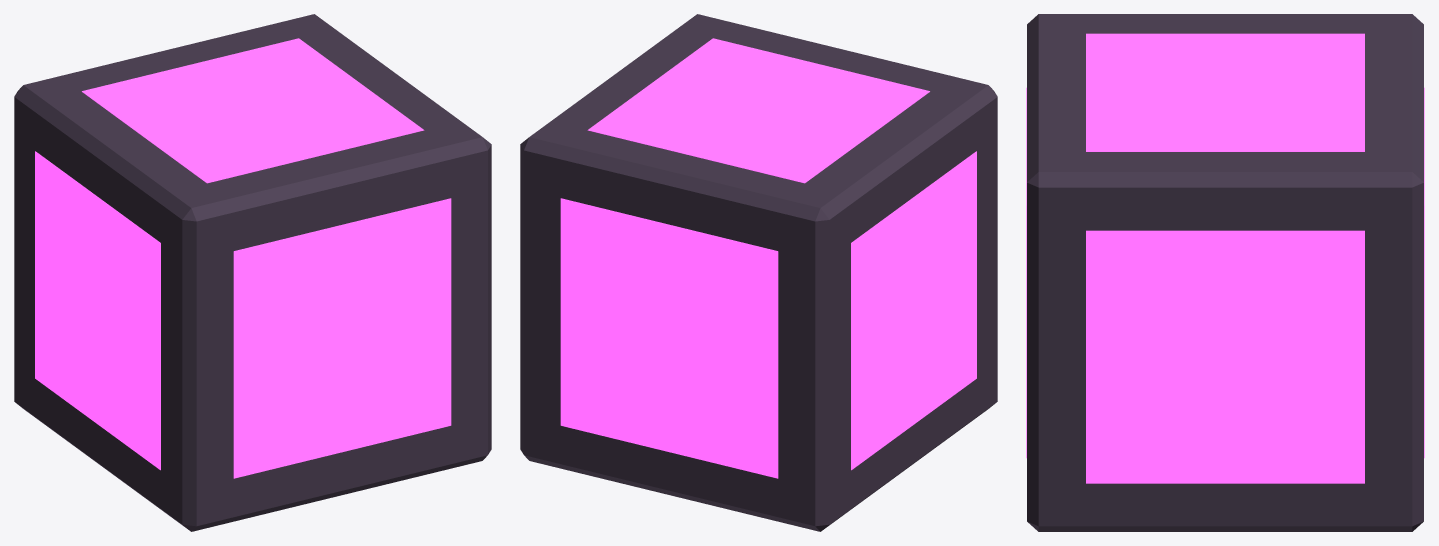
File: key_stone.glb
3 renders of one model, left to right at view 1: azimuth 30°, elevation 25°; view 2: azimuth 150°, elevation 25°; view 3: azimuth 270°, elevation 25°, orthographic. The views are drawn at different scales.
Visible parts, largest first — view 1: key-stone-core, key-stone; view 2: key-stone-core, key-stone; view 3: key-stone-core, key-stone.
Part boxes in pixels (bbox=[...]): key-stone-core: bbox=[35, 38, 451, 478]; key-stone: bbox=[14, 14, 491, 531]; key-stone-core: bbox=[560, 38, 976, 478]; key-stone: bbox=[520, 14, 997, 531]; key-stone-core: bbox=[1026, 33, 1424, 483]; key-stone: bbox=[1027, 14, 1423, 531].
Bounding box in the file's own units: 1.7 × 1.7 × 1.7.
